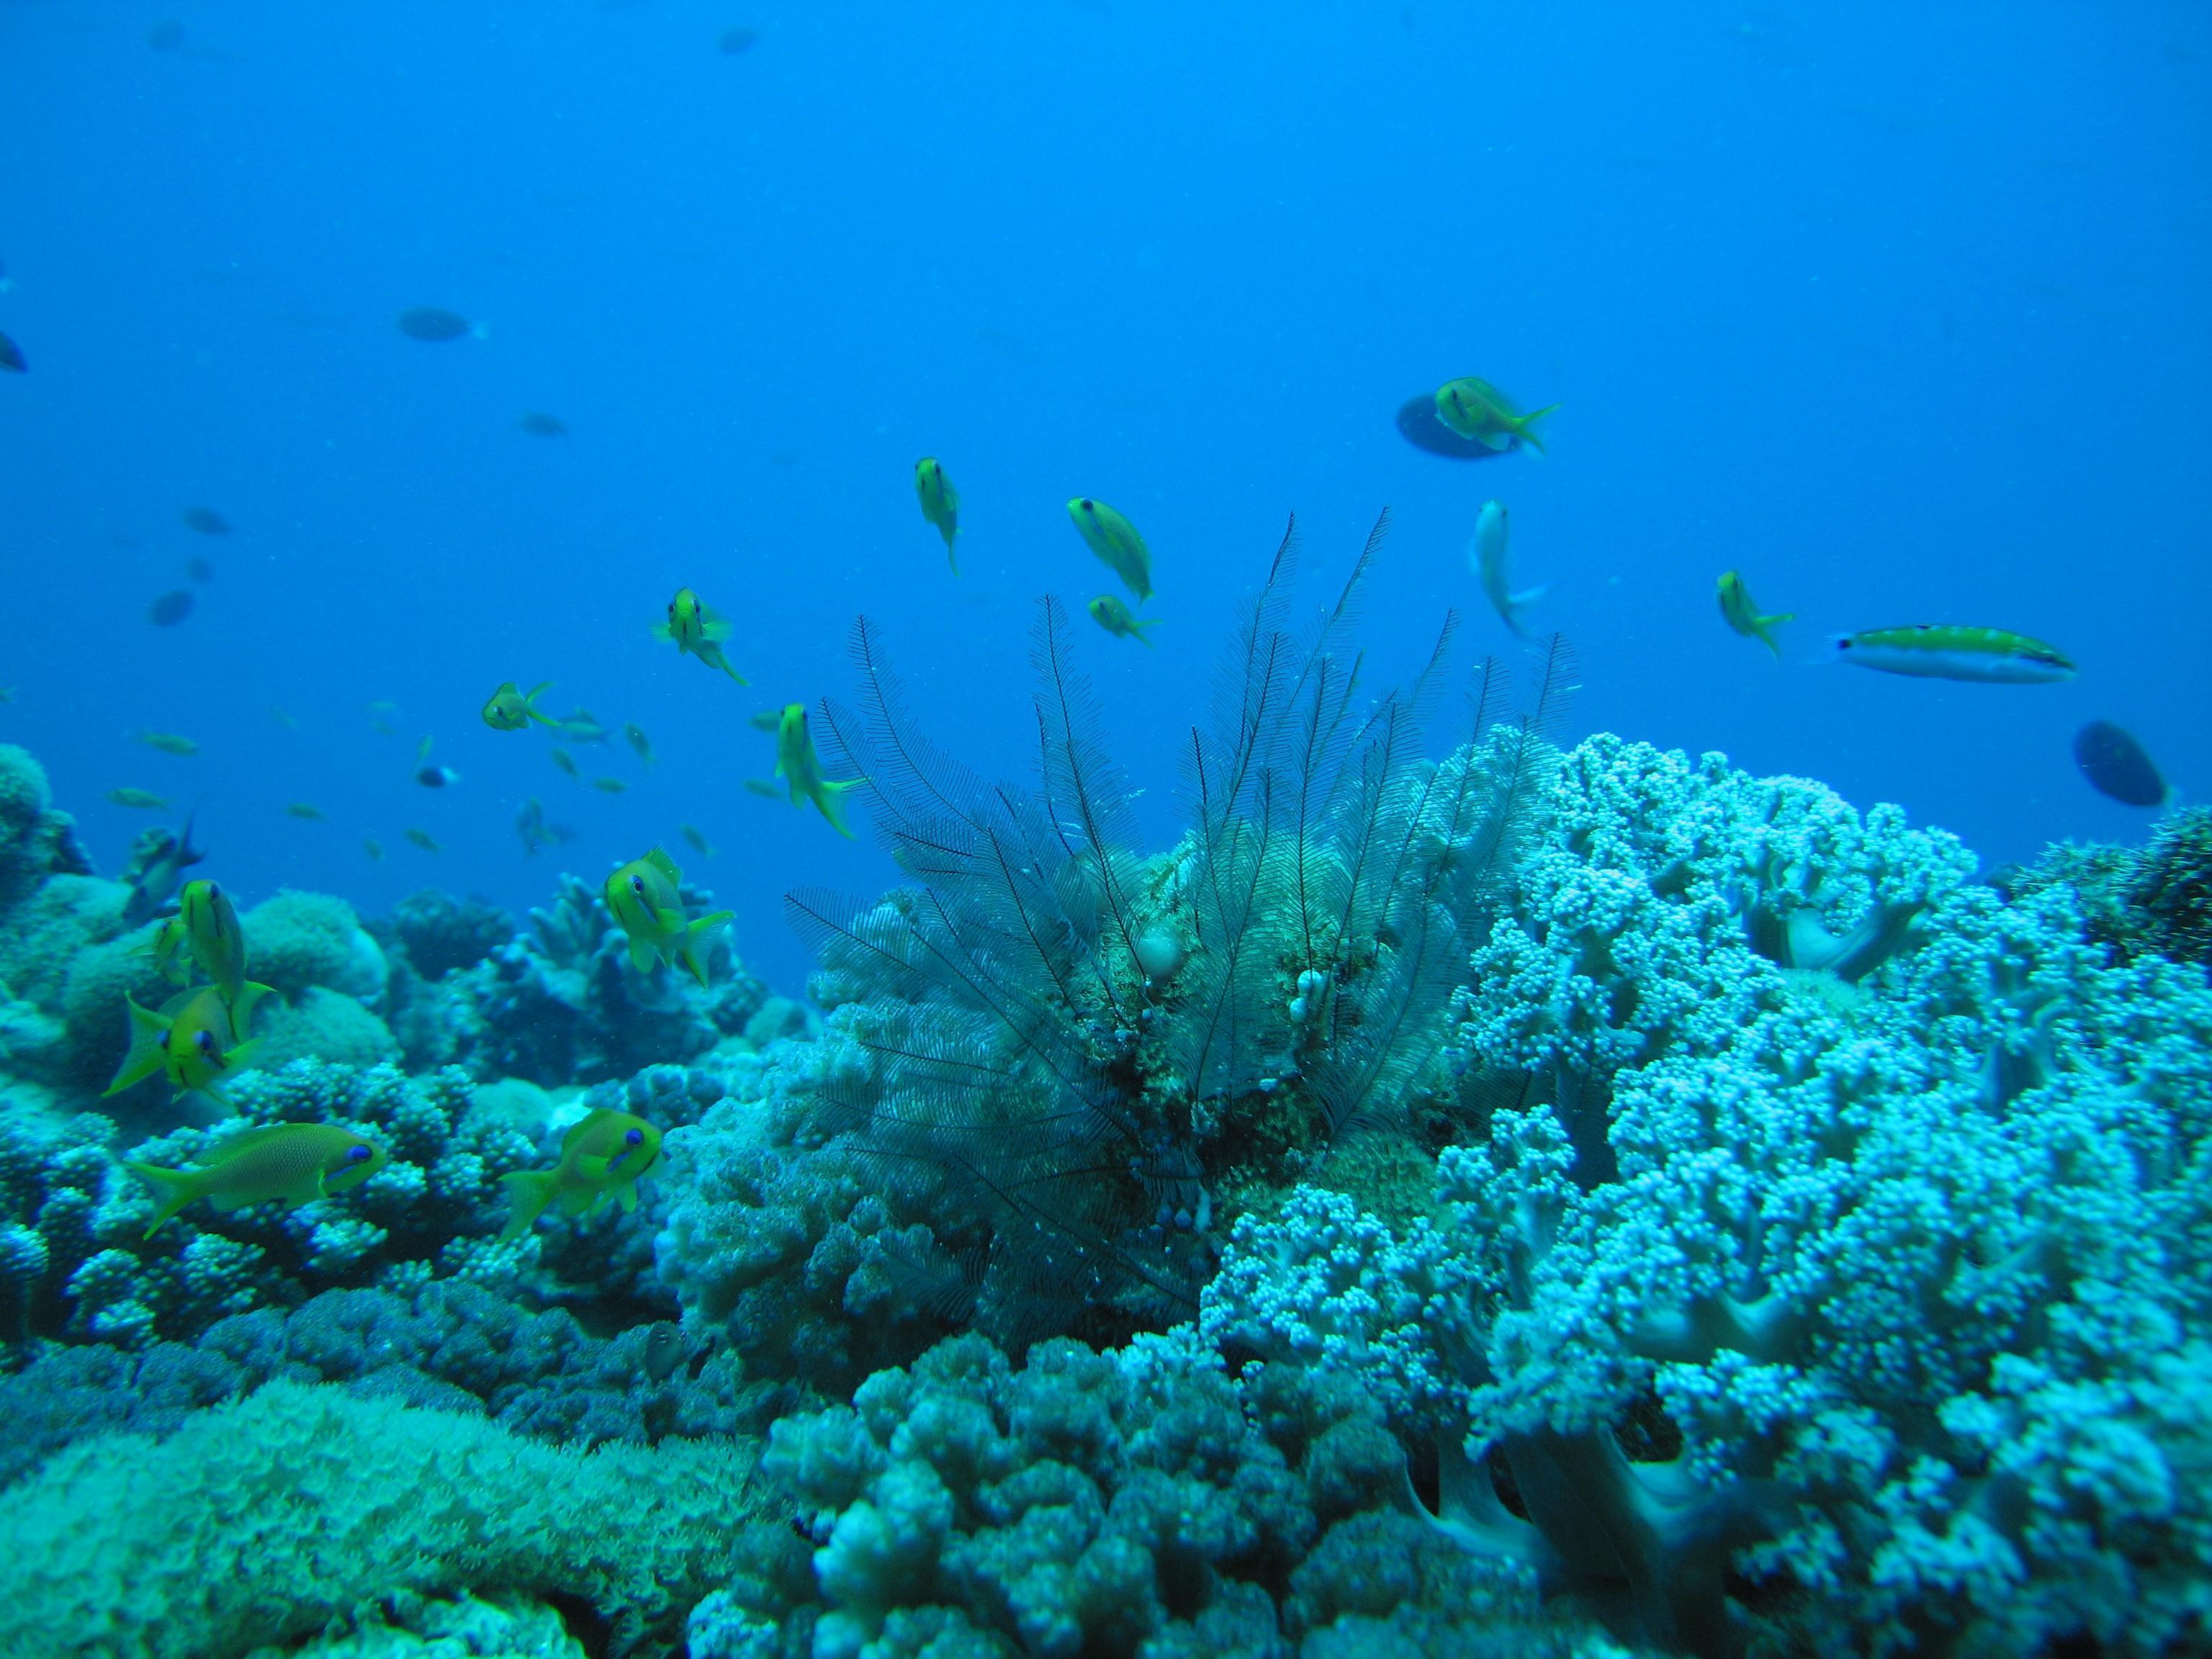Pseadanthias squamipinnis: (484, 1091, 702, 1262), (587, 817, 742, 1002), (1799, 610, 2101, 695), (888, 441, 998, 599), (648, 563, 772, 701), (765, 695, 878, 843), (1423, 369, 1578, 474), (1050, 483, 1183, 605), (453, 664, 603, 765), (1700, 558, 1806, 674), (1083, 584, 1170, 659)
